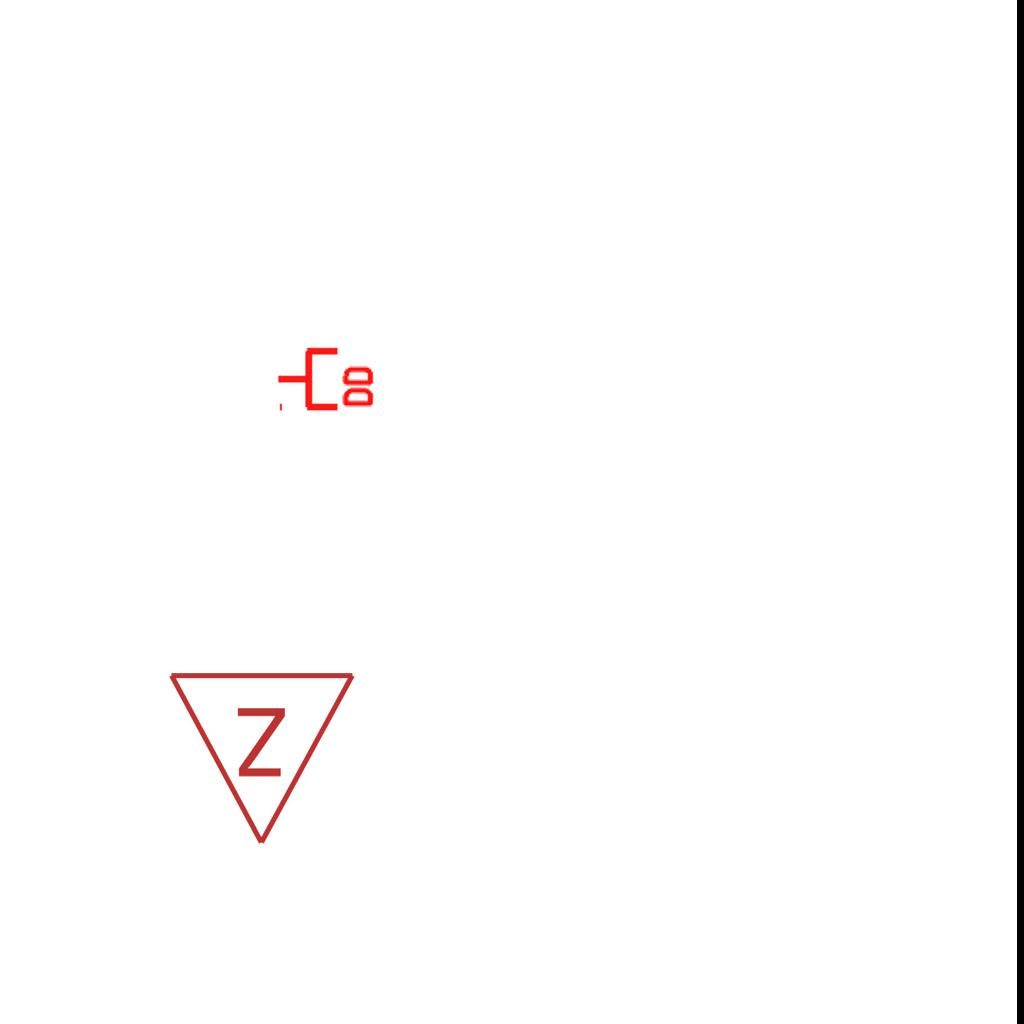Datenanschluss_zweifach: (275, 343, 378, 412)
Zimmersignalleuchte: (166, 658, 362, 858)
